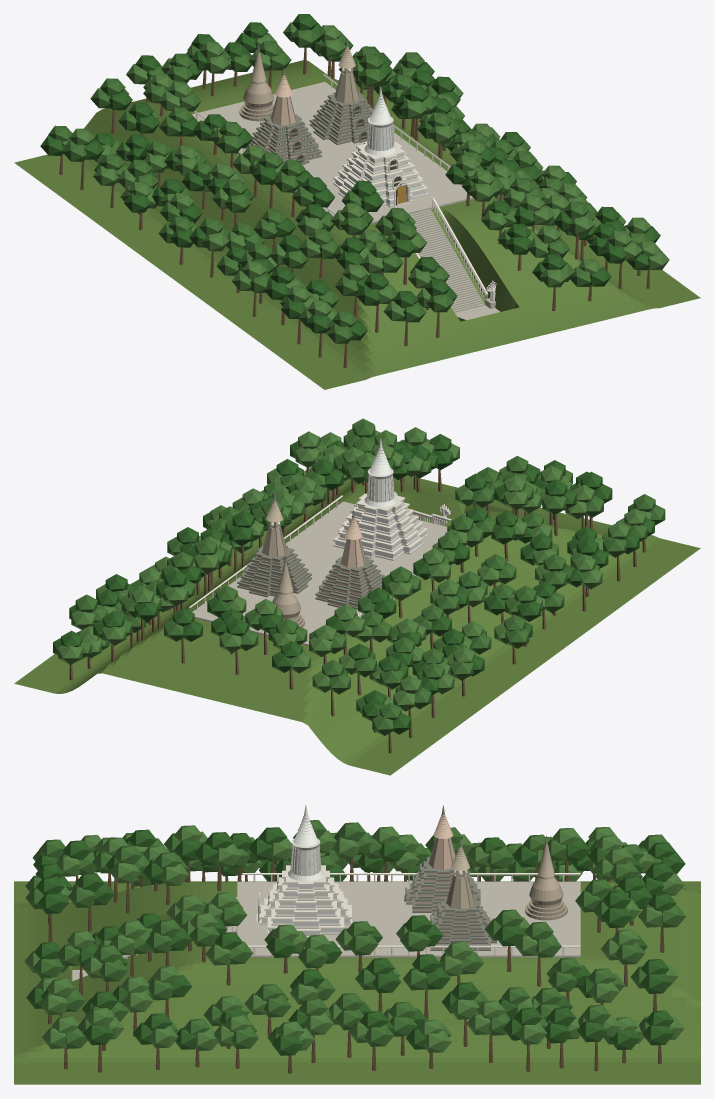
File: oudong-normal.glb
3 views of the same model, one above another, from view 1: azimuth 30°, elevation 25°; view 2: azimuth 150°, elevation 25°; view 3: azimuth 270°, elevation 25° (orthographic). The views are drawn at different scales.
Parts seen in each view (by area): view 1: Green hill surface, Forest canopy 1, Forest canopy 0, Forest canopy 2, Terraces and stairs, Old recessed ornament, Pale carved mouldings, Tree bark, Weathered royal stucco, White relic stupa, Warm old plaster; view 2: Green hill surface, Forest canopy 1, Forest canopy 2, Forest canopy 0, Terraces and stairs, Old recessed ornament, Pale carved mouldings, Tree bark, White relic stupa, Weathered royal stucco, Warm old plaster; view 3: Green hill surface, Forest canopy 0, Forest canopy 1, Forest canopy 2, Terraces and stairs, Pale carved mouldings, Tree bark, Old recessed ornament, Weathered royal stucco, White relic stupa, Warm old plaster.
Boxes of the visible parts, left/top/right/bottom form: Green hill surface: left=14, top=60, right=700, bottom=389; Forest canopy 1: left=48, top=29, right=650, bottom=343; Forest canopy 0: left=40, top=14, right=660, bottom=340; Forest canopy 2: left=62, top=22, right=669, bottom=330; Terraces and stairs: left=192, top=82, right=500, bottom=320; Old recessed ornament: left=246, top=39, right=373, bottom=164; Pale carved mouldings: left=194, top=68, right=496, bottom=301; Tree bark: left=59, top=47, right=650, bottom=368; Weathered royal stucco: left=239, top=47, right=371, bottom=142; White relic stupa: left=335, top=96, right=426, bottom=205; Warm old plaster: left=247, top=75, right=319, bottom=161; Green hill surface: left=14, top=466, right=700, bottom=775; Forest canopy 1: left=75, top=420, right=665, bottom=735; Forest canopy 2: left=58, top=418, right=651, bottom=716; Forest canopy 0: left=53, top=434, right=654, bottom=734; Terraces and stairs: left=192, top=501, right=467, bottom=646; Old recessed ornament: left=237, top=493, right=384, bottom=609; Pale carved mouldings: left=188, top=438, right=451, bottom=616; Tree bark: left=69, top=467, right=646, bottom=753; White relic stupa: left=335, top=448, right=426, bottom=558; Weathered royal stucco: left=239, top=501, right=310, bottom=627; Warm old plaster: left=317, top=518, right=381, bottom=607; Green hill surface: left=14, top=881, right=700, bottom=1084; Forest canopy 0: left=26, top=827, right=685, bottom=1055; Forest canopy 1: left=25, top=820, right=685, bottom=1049; Forest canopy 2: left=24, top=825, right=684, bottom=1052; Terraces and stairs: left=72, top=881, right=580, bottom=980; Pale carved mouldings: left=122, top=805, right=580, bottom=959; Tree bark: left=48, top=858, right=664, bottom=1073; Old recessed ornament: left=404, top=805, right=547, bottom=950; Weathered royal stucco: left=431, top=844, right=567, bottom=948; White relic stupa: left=261, top=816, right=350, bottom=935; Warm old plaster: left=408, top=814, right=478, bottom=913.
Bounding box in the file's own units: 28 × 11.63 × 40.
